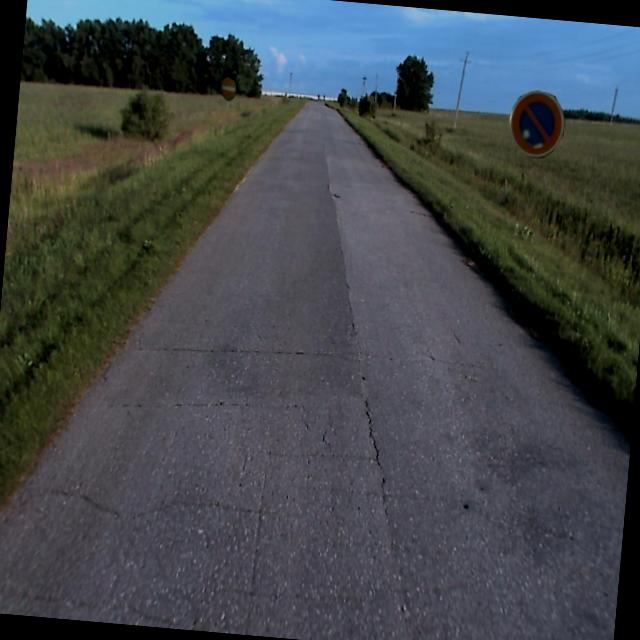road: (0, 99, 630, 640)
